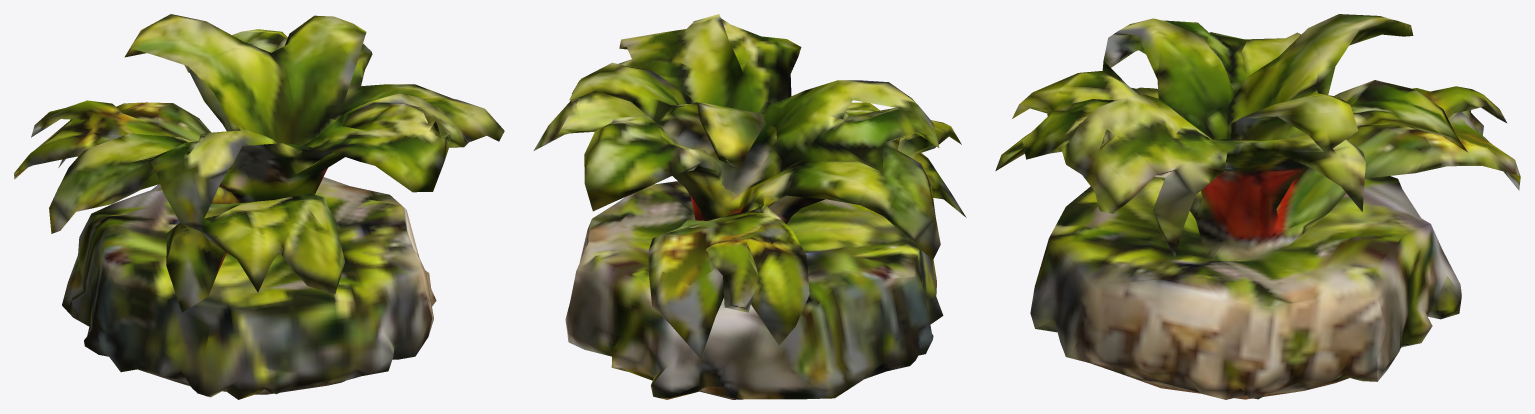
Rendered from SummerDecor_ThirdRoom_TropicalPlant.fbx.
The picture shows the model from 3 angles, left to right: view 1: azimuth 30°, elevation 25°; view 2: azimuth 150°, elevation 25°; view 3: azimuth 270°, elevation 25°; orthographic projection. The views are drawn at different scales.
Parts seen in each view (by area): view 1: SummerDecor_ThirdRoom_TropicalPlant_Mesh; view 2: SummerDecor_ThirdRoom_TropicalPlant_Mesh; view 3: SummerDecor_ThirdRoom_TropicalPlant_Mesh.
Boxes of the visible parts, left/top/right/bottom form: SummerDecor_ThirdRoom_TropicalPlant_Mesh: left=14, top=14, right=504, bottom=399; SummerDecor_ThirdRoom_TropicalPlant_Mesh: left=533, top=14, right=966, bottom=399; SummerDecor_ThirdRoom_TropicalPlant_Mesh: left=995, top=14, right=1520, bottom=399.
Bounding box in the file's own units: 5.86 × 3.99 × 6.
1 material, 1 textured.
